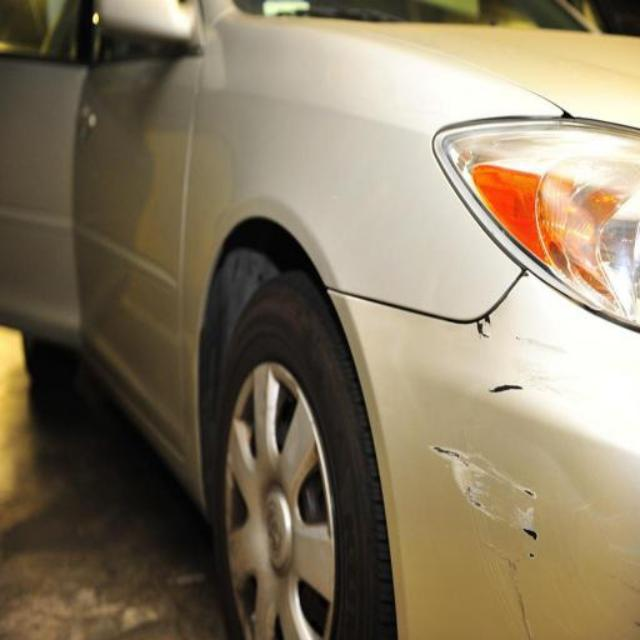crack: (486, 382, 524, 394)
rub: (431, 445, 539, 541)
scratch: (484, 542, 532, 637), (476, 312, 494, 340)
